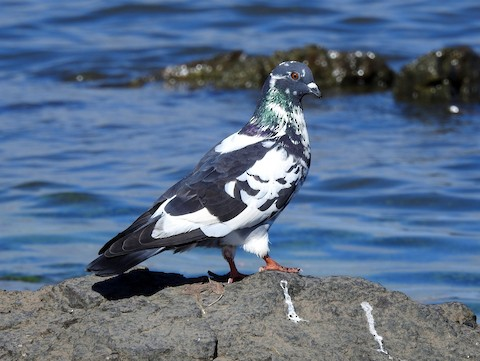pigeon: (85, 56, 324, 294)
